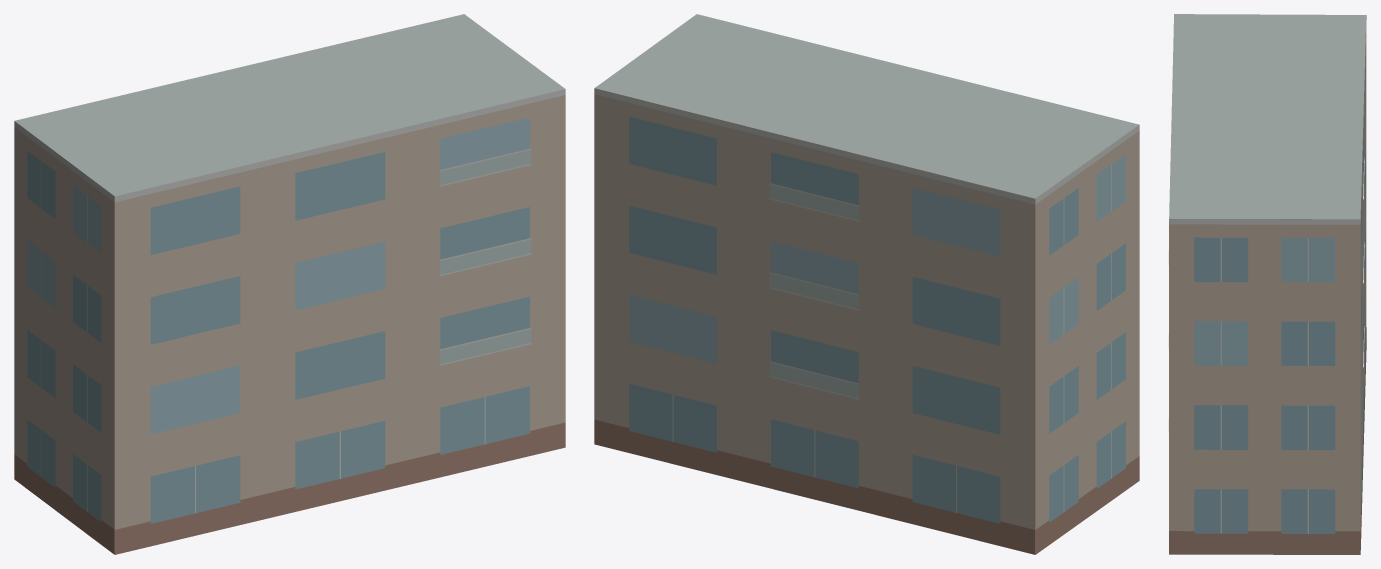
Rendered from survey-upis-32832490.glb.
3 renders of one model, left to right at view 1: azimuth 30°, elevation 25°; view 2: azimuth 150°, elevation 25°; view 3: azimuth 270°, elevation 25°, orthographic. The views are drawn at different scales.
Parts seen in each view (by area): view 1: survey-upis-32832490.tmp; view 2: survey-upis-32832490.tmp; view 3: survey-upis-32832490.tmp.
Boxes of the visible parts, x1,y1,x2,y2 form: survey-upis-32832490.tmp: [14, 14, 565, 554]; survey-upis-32832490.tmp: [594, 14, 1139, 554]; survey-upis-32832490.tmp: [1168, 14, 1366, 554].
Size of the model in its own units: 19.41 by 14.8 by 7.91.
